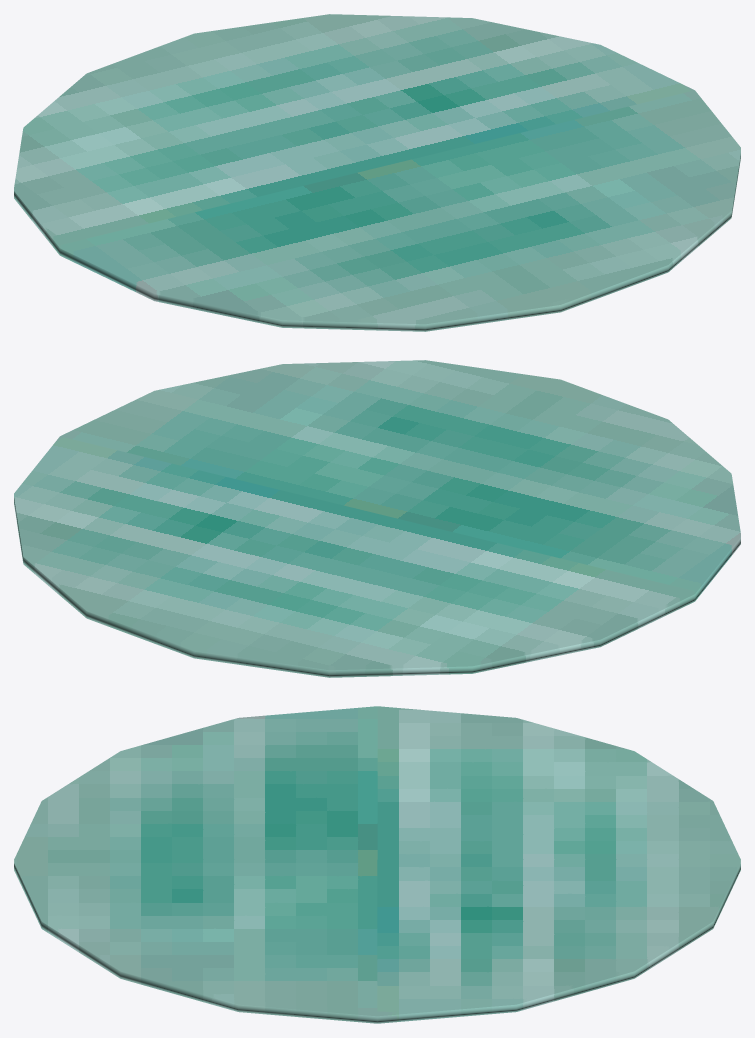
The model's file is a_com_house_a01_mat01_circle_wave.gltf.
3 renders of one model, top to bottom at view 1: azimuth 30°, elevation 25°; view 2: azimuth 150°, elevation 25°; view 3: azimuth 270°, elevation 25°, orthographic.
Visible parts, largest first — view 1: um_a_com_house_a01_mat01_model_a_com_house_a01_mat01_modelSh (×5); view 2: um_a_com_house_a01_mat01_model_a_com_house_a01_mat01_modelSh (×5); view 3: um_a_com_house_a01_mat01_model_a_com_house_a01_mat01_modelSh (×5).
Boxes of the visible parts, left/top/right/bottom form: um_a_com_house_a01_mat01_model_a_com_house_a01_mat01_modelSh (×5): left=14, top=14, right=740, bottom=331; um_a_com_house_a01_mat01_model_a_com_house_a01_mat01_modelSh (×5): left=14, top=360, right=740, bottom=677; um_a_com_house_a01_mat01_model_a_com_house_a01_mat01_modelSh (×5): left=14, top=706, right=740, bottom=1023.
Bounding box in the file's own units: 2.03 × 0.032 × 2.03.
5 materials, 5 textured.
